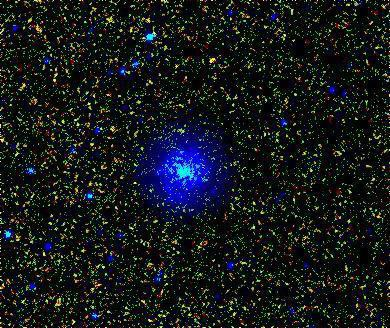star: (166, 115, 196, 145)
